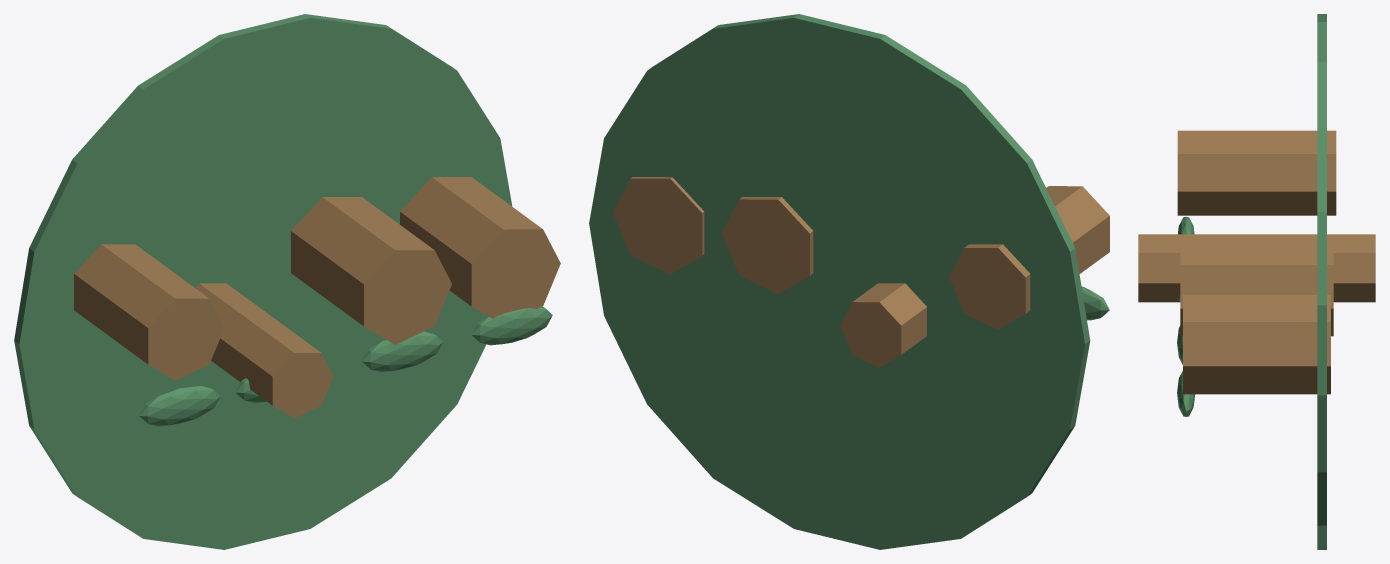
File: 03_ambient_object_cluster.glb
3 renders of one model, left to right at view 1: azimuth 30°, elevation 25°; view 2: azimuth 150°, elevation 25°; view 3: azimuth 270°, elevation 25°, orthographic. The views are drawn at different scales.
Parts seen in each view (by area): view 1: scatter_base, root_stump_2, root_stump_3, root_stump_0, root_stump_1, moss_0, moss_2, moss_3; view 2: scatter_base, root_stump_0, root_stump_2, root_stump_3, root_stump_1; view 3: root_stump_3, root_stump_0, root_stump_2, root_stump_1, scatter_base, moss_3.
Boxes of the visible parts, bbox=[...] form: scatter_base: bbox=[14, 14, 512, 549]; root_stump_2: bbox=[291, 197, 451, 344]; root_stump_3: bbox=[400, 177, 560, 318]; root_stump_0: bbox=[74, 244, 224, 380]; root_stump_1: bbox=[195, 283, 333, 418]; moss_0: bbox=[139, 385, 220, 426]; moss_2: bbox=[362, 331, 442, 371]; moss_3: bbox=[471, 306, 552, 345]; scatter_base: bbox=[589, 14, 1090, 549]; root_stump_0: bbox=[949, 186, 1109, 329]; root_stump_2: bbox=[721, 197, 813, 294]; root_stump_3: bbox=[613, 177, 704, 274]; root_stump_1: bbox=[840, 283, 926, 367]; root_stump_3: bbox=[1183, 295, 1330, 394]; root_stump_0: bbox=[1177, 130, 1336, 215]; root_stump_2: bbox=[1180, 238, 1333, 336]; root_stump_1: bbox=[1138, 234, 1375, 302]; scatter_base: bbox=[1317, 14, 1326, 549]; moss_3: bbox=[1177, 371, 1195, 416].
Bounding box in the file's own units: 1.9 × 1.87 × 0.8384.
